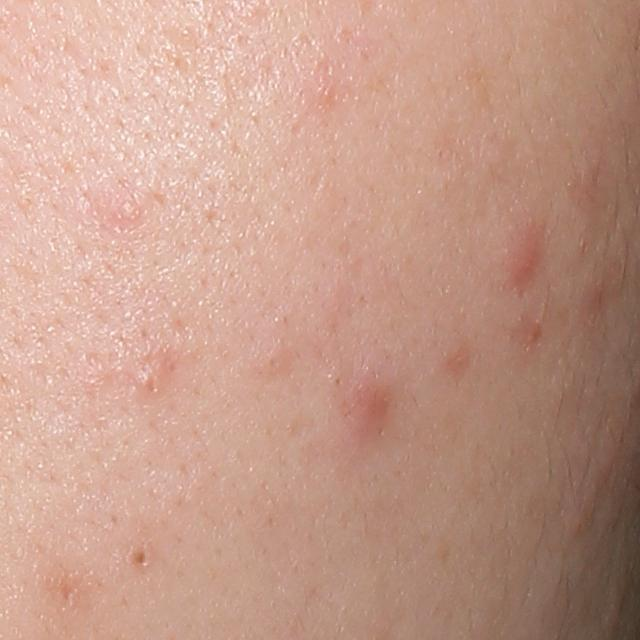comedo: (252, 346, 290, 376), (123, 542, 151, 571)
papule: (347, 377, 396, 442), (495, 226, 542, 288)
